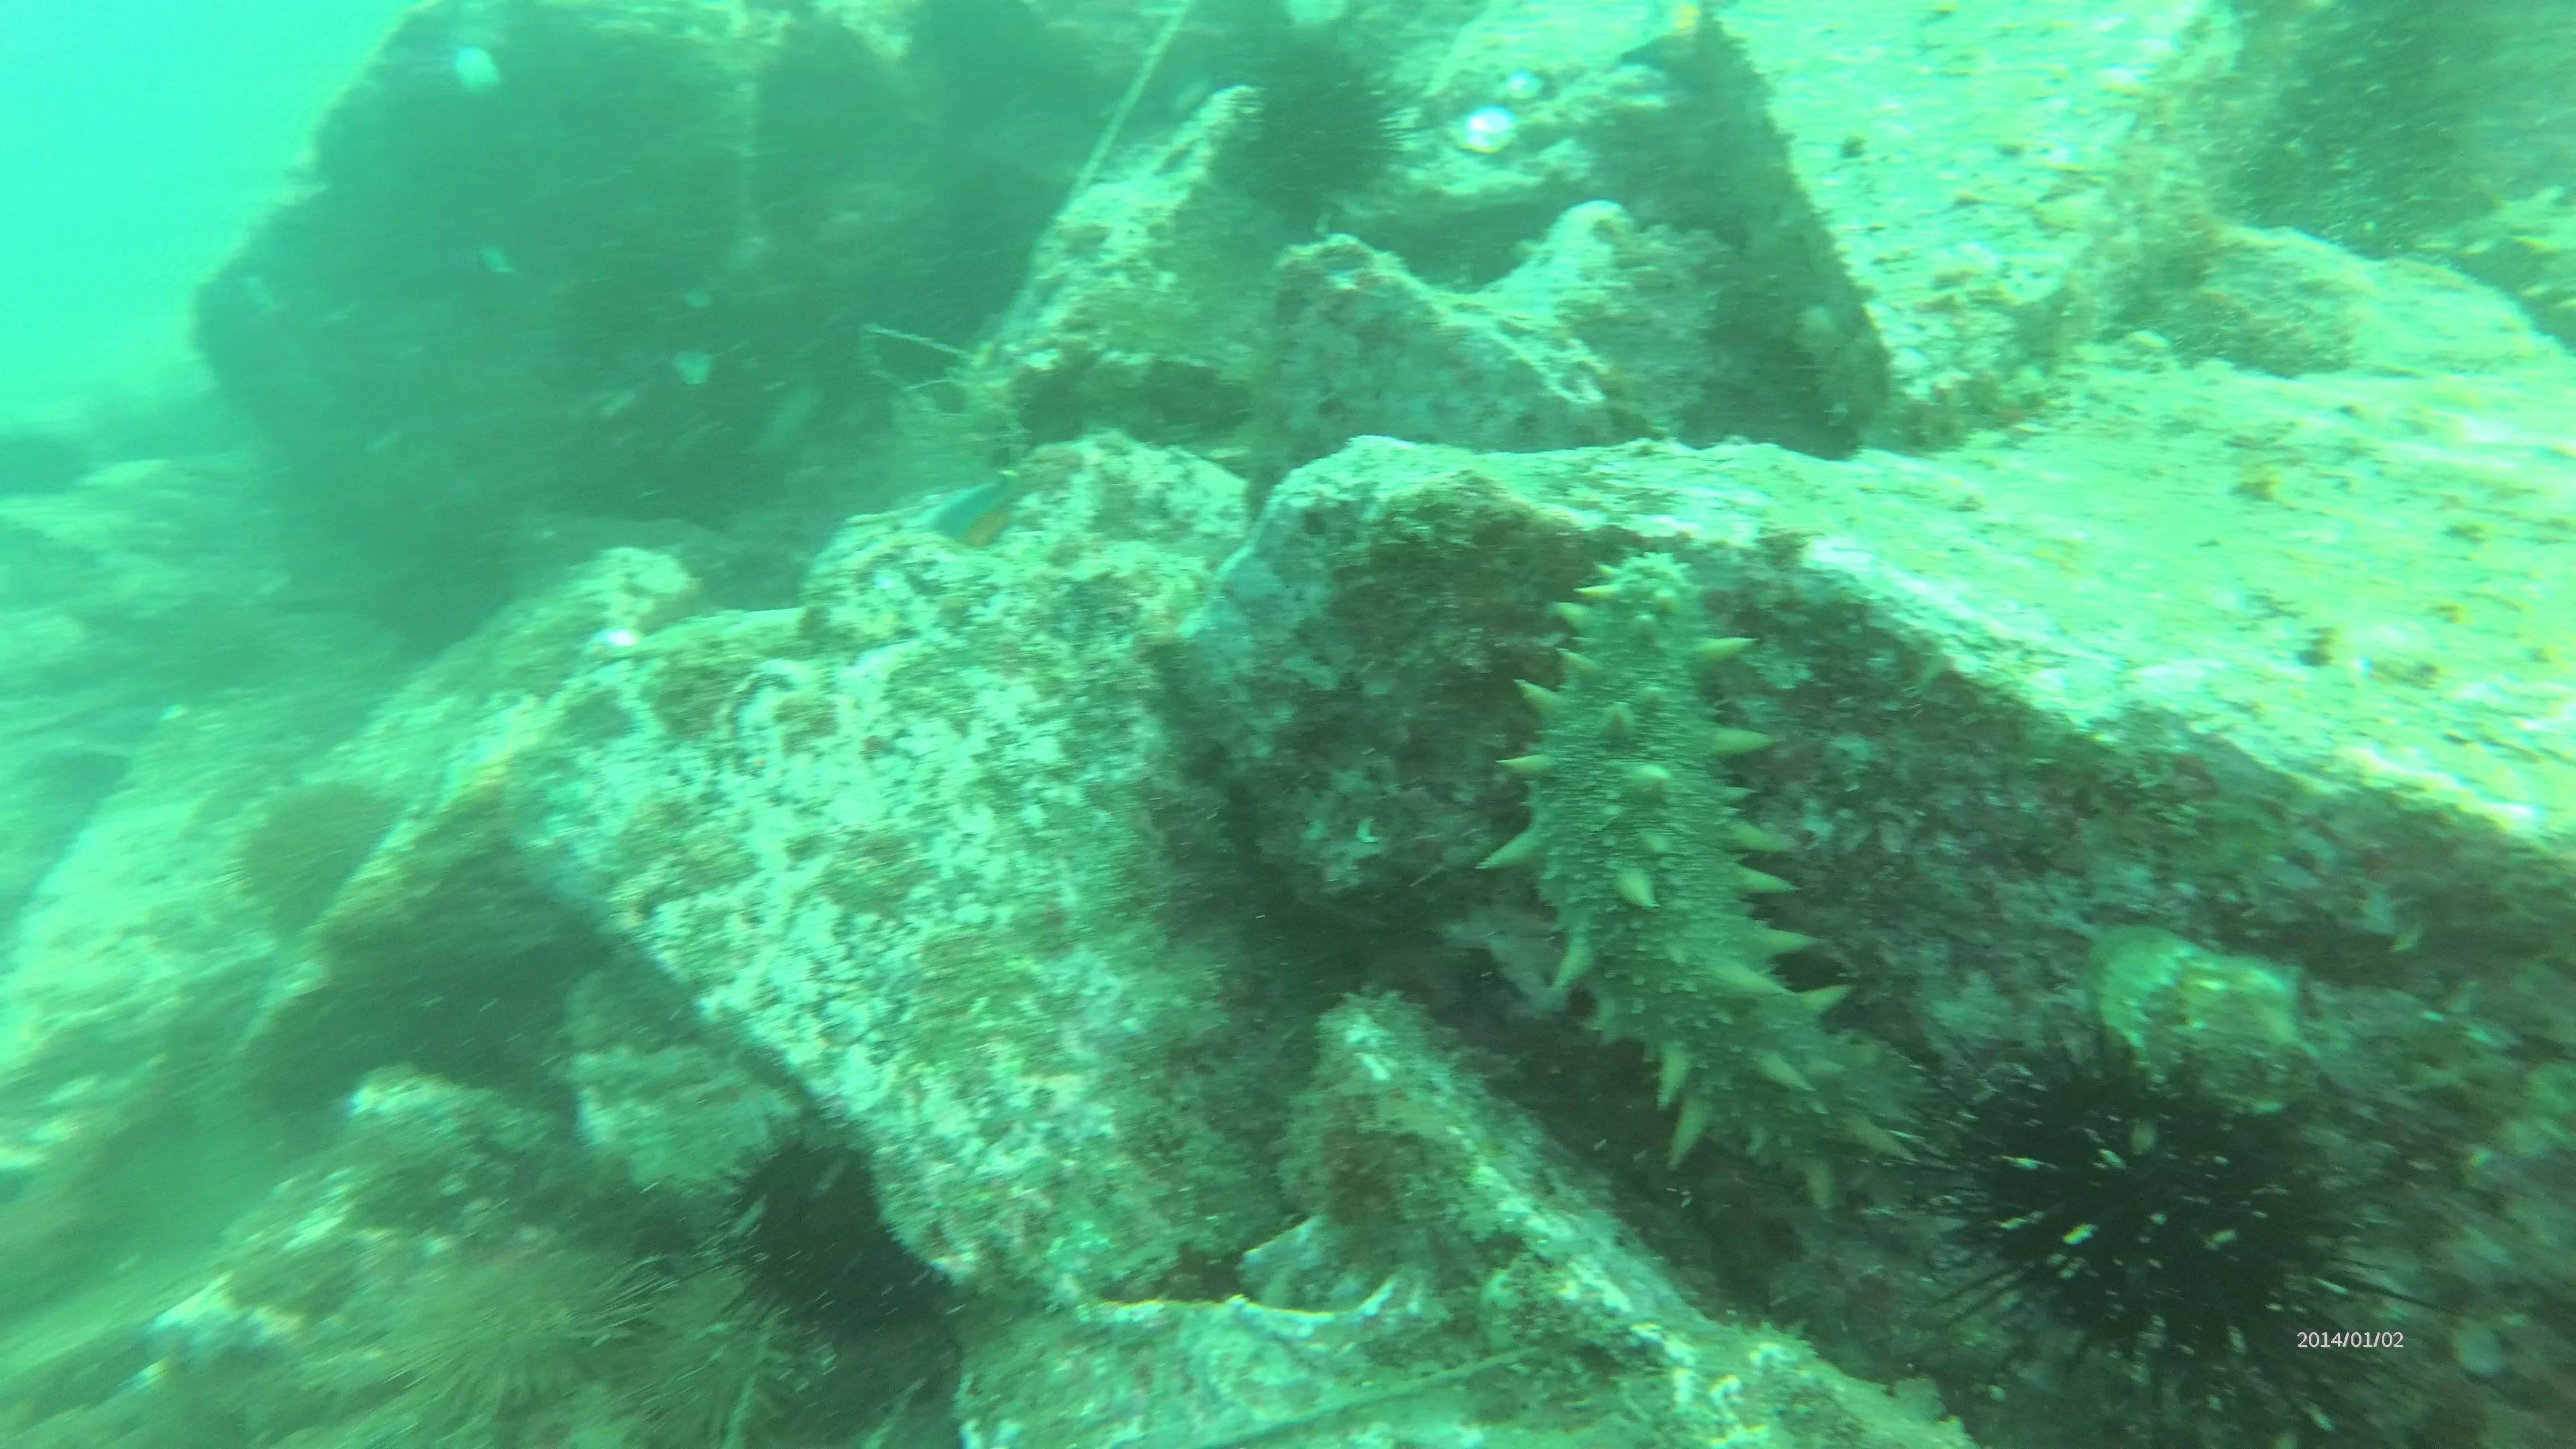echinus: (1907, 1016, 2449, 1433), (352, 1230, 711, 1447), (706, 1120, 970, 1350), (602, 1256, 821, 1426), (202, 786, 410, 938)
holothurian: (1488, 556, 1939, 1205)
starfish: (561, 614, 649, 665)
